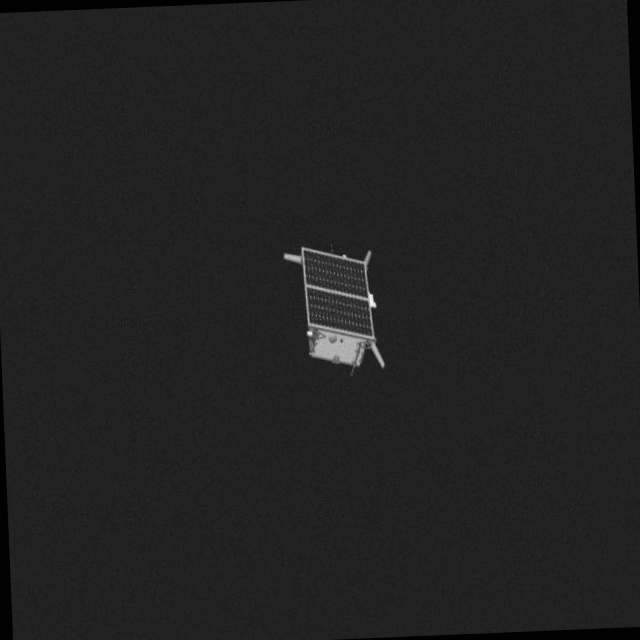medium_debris: (279, 241, 387, 388)
